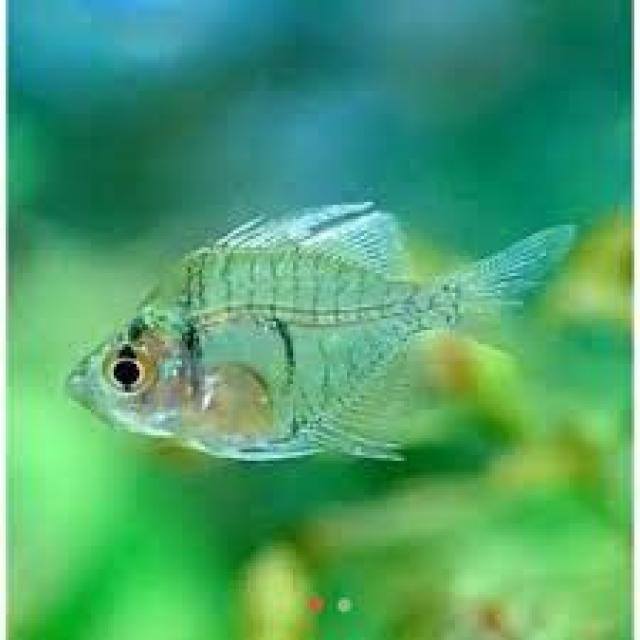Glass-Perchlet: (20, 156, 640, 514)
